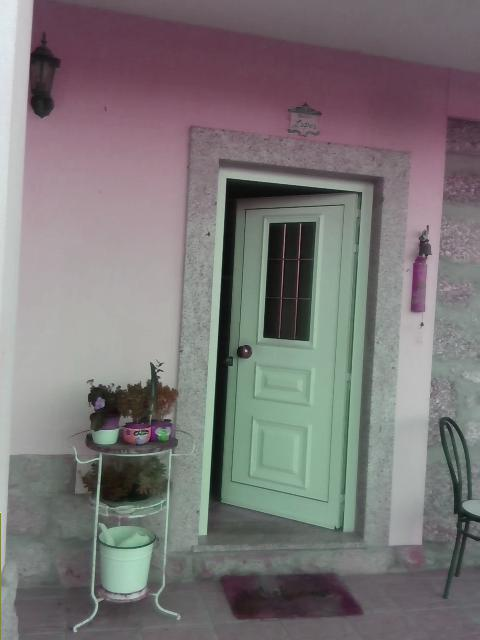semi_door: (201, 174, 365, 539)
